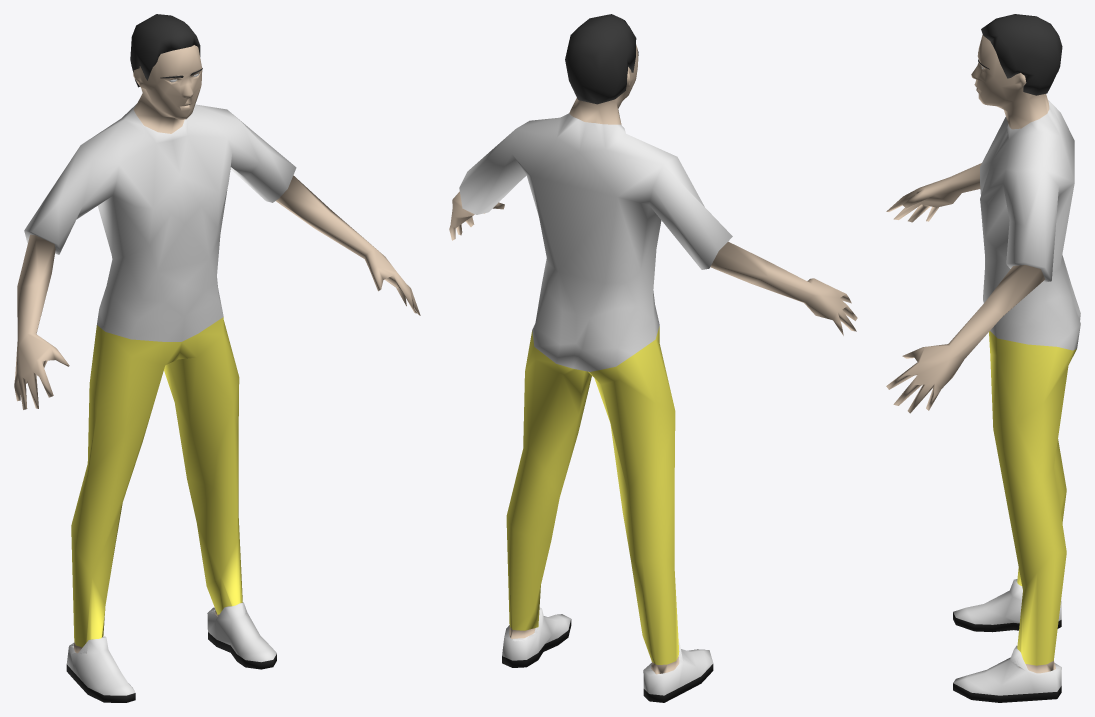
Rendered from fsefewf.fbx.
3 renders of one model, left to right at view 1: azimuth 30°, elevation 25°; view 2: azimuth 150°, elevation 25°; view 3: azimuth 270°, elevation 25°, orthographic.
Visible parts, largest first — view 1: male1591.005; view 2: male1591.005; view 3: male1591.005.
Boxes of the visible parts, x1,y1,x2,y2 form: male1591.005: (14, 14, 420, 702); male1591.005: (449, 14, 857, 702); male1591.005: (886, 14, 1080, 702).
Bounding box in the file's own units: 114 × 178 × 48.83.
